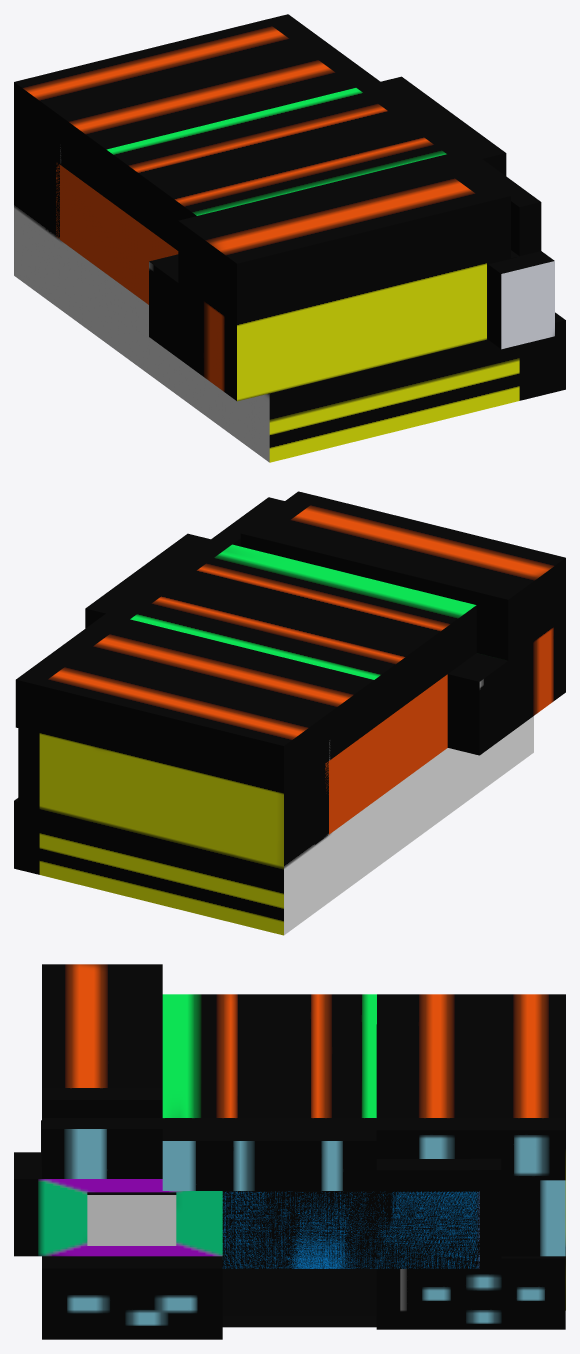
The model's file is general building 1 do 5.fbx.
The picture shows the model from 3 angles, top to bottom: view 1: azimuth 30°, elevation 25°; view 2: azimuth 150°, elevation 25°; view 3: azimuth 270°, elevation 25°; orthographic projection. The views are drawn at different scales.
Visible parts, largest first — view 1: Cube; view 2: Cube; view 3: Cube.
Boxes of the visible parts, bbox=[...] form: Cube: bbox=[14, 14, 565, 462]; Cube: bbox=[14, 491, 565, 935]; Cube: bbox=[14, 964, 565, 1339].
Size of the model in its own units: 19639 by 11850 by 27827.
